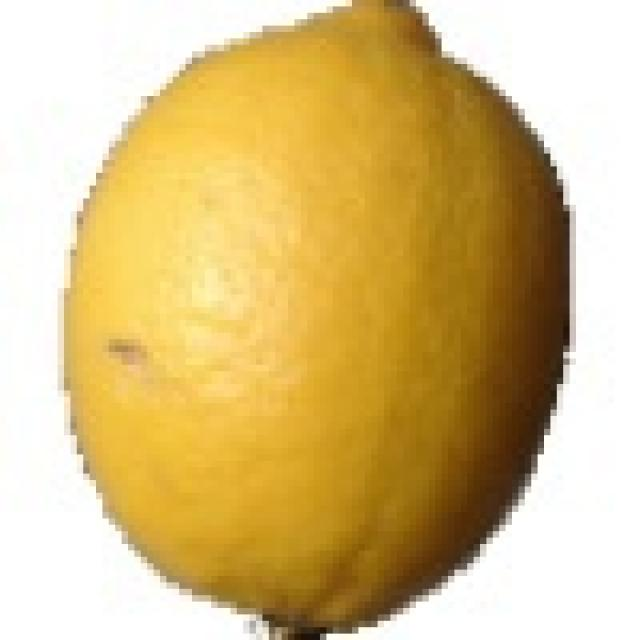lemon: (59, 0, 594, 640)
